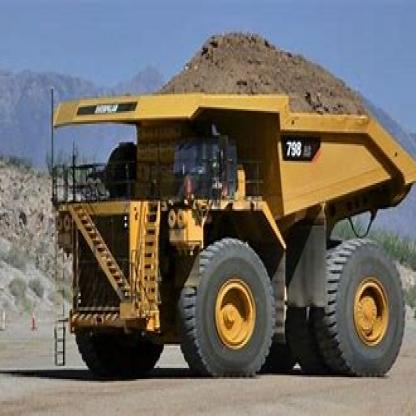dump_truck: (43, 32, 415, 388)
